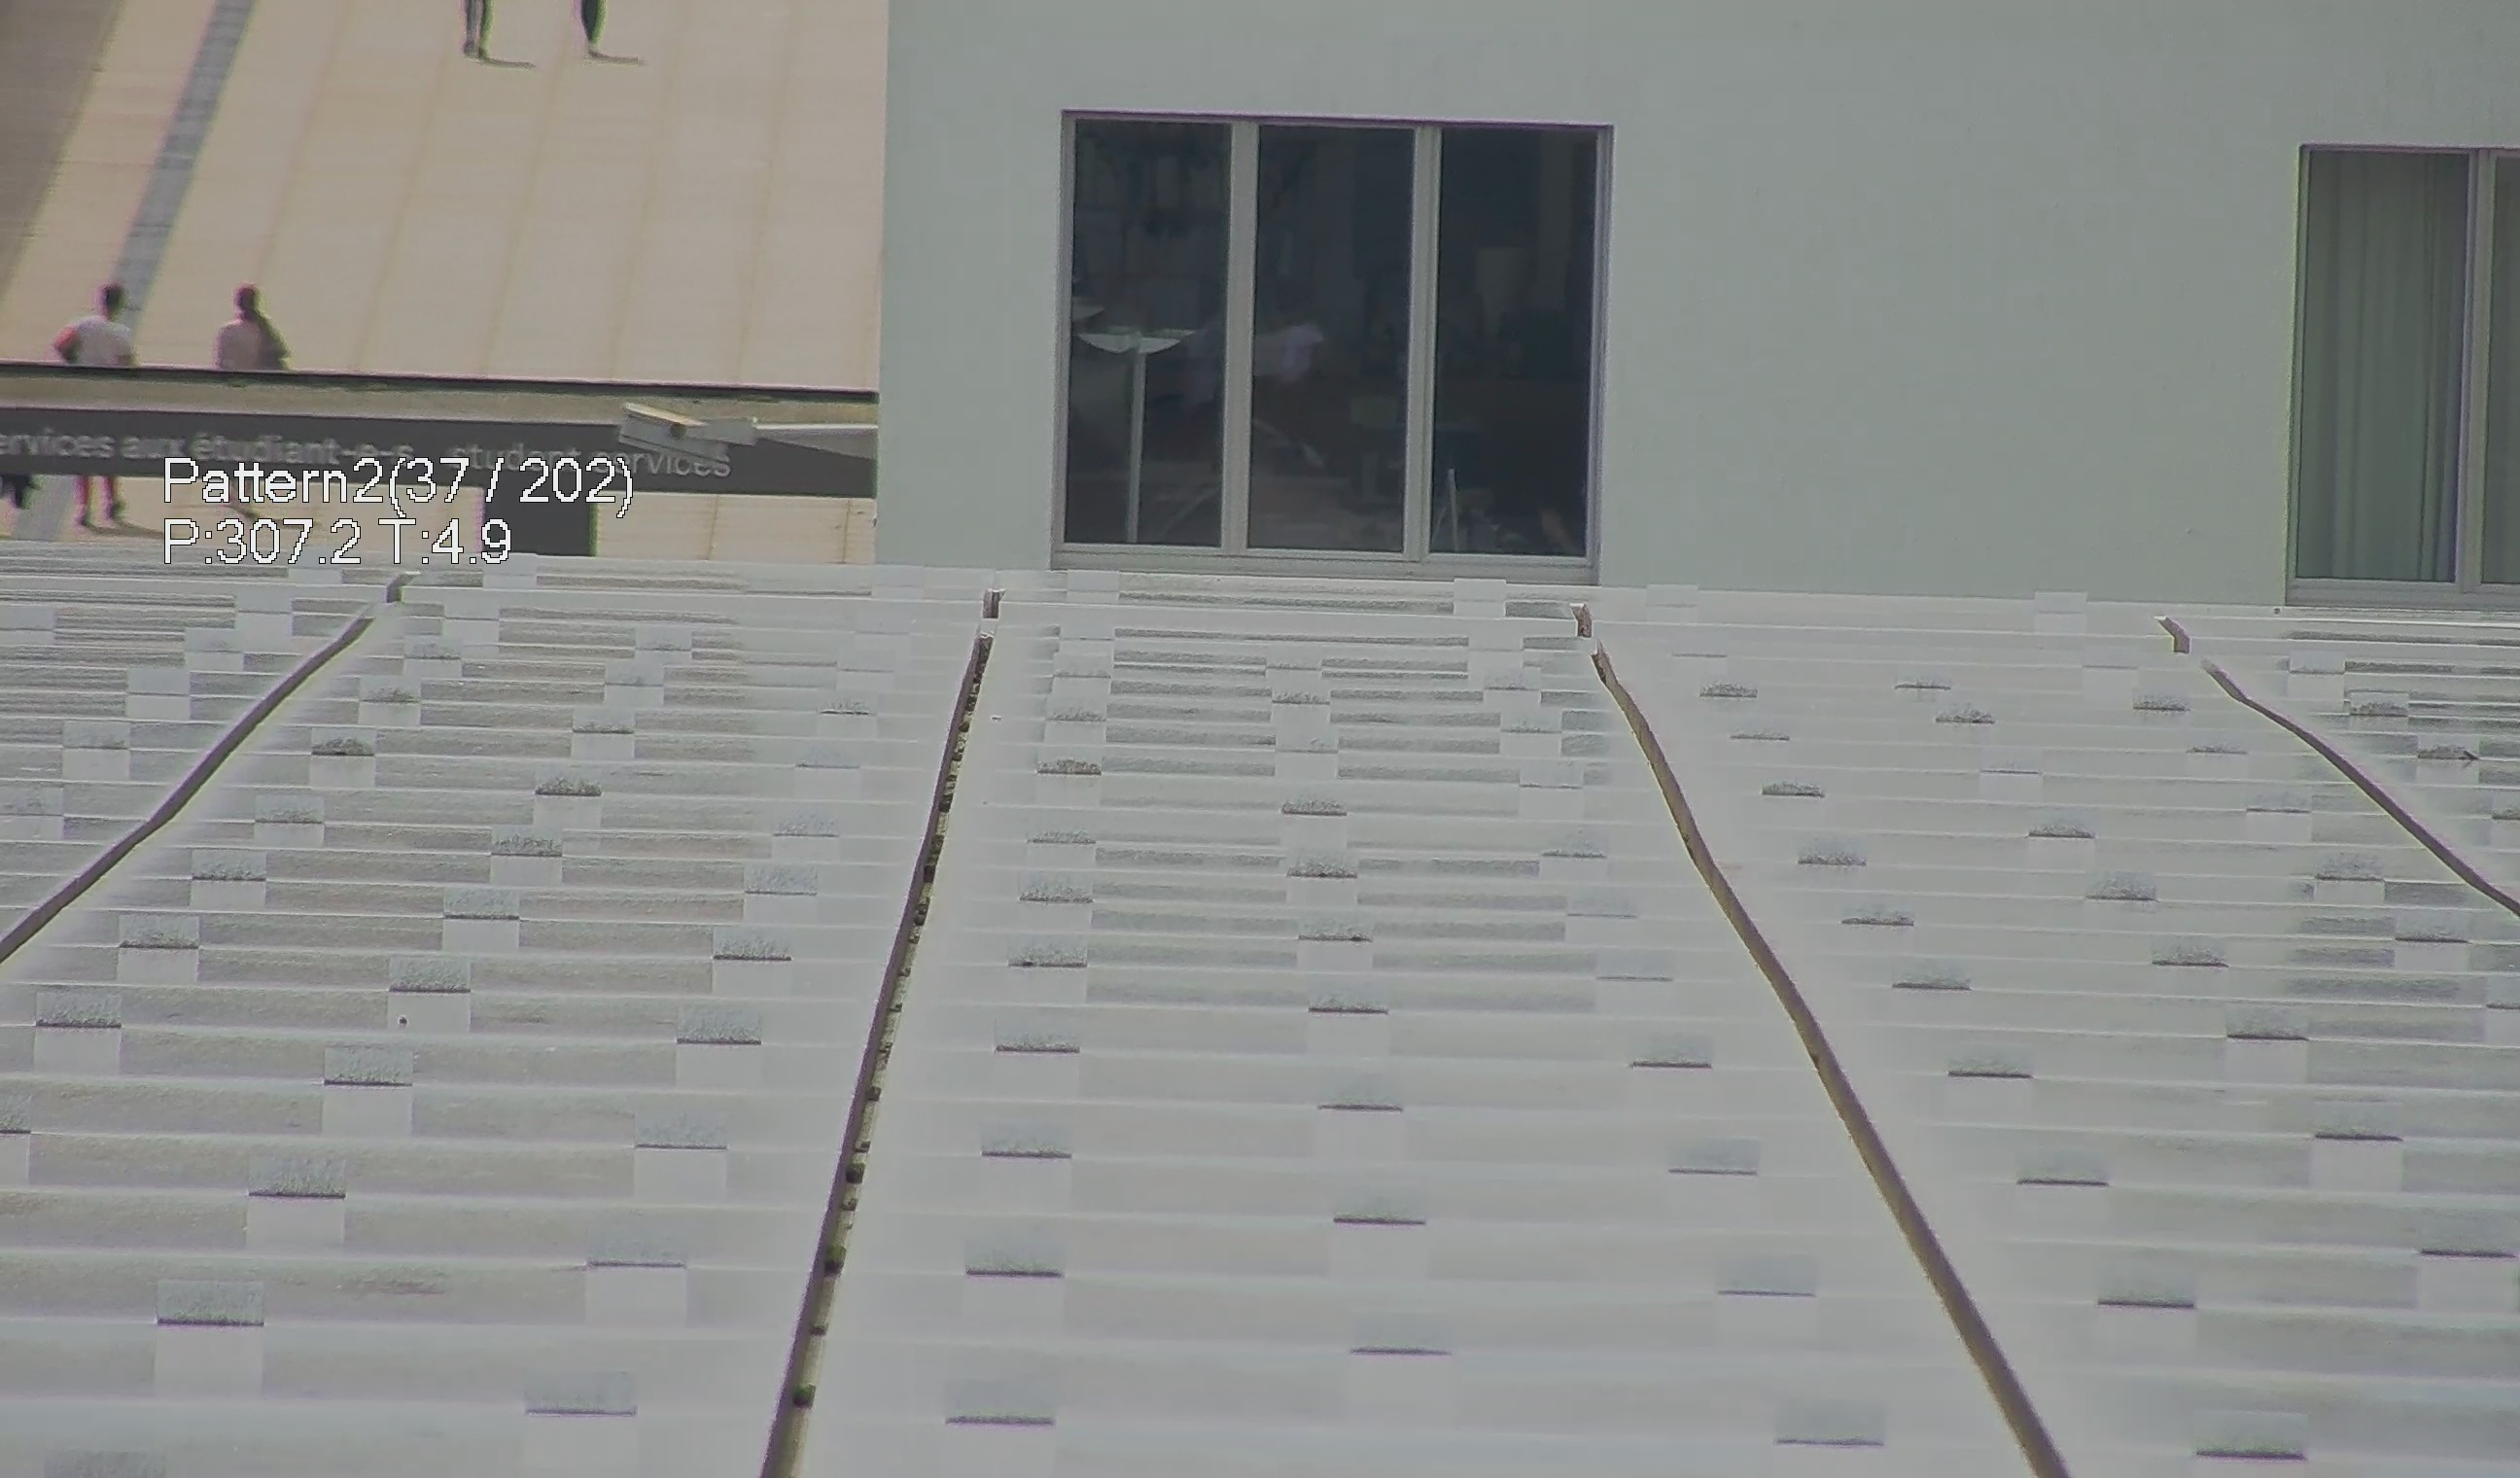Other: (206, 273, 290, 375)
